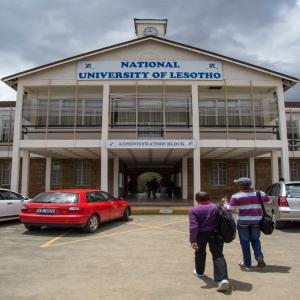Vehicle-registration-plate: (38, 210, 56, 215)
